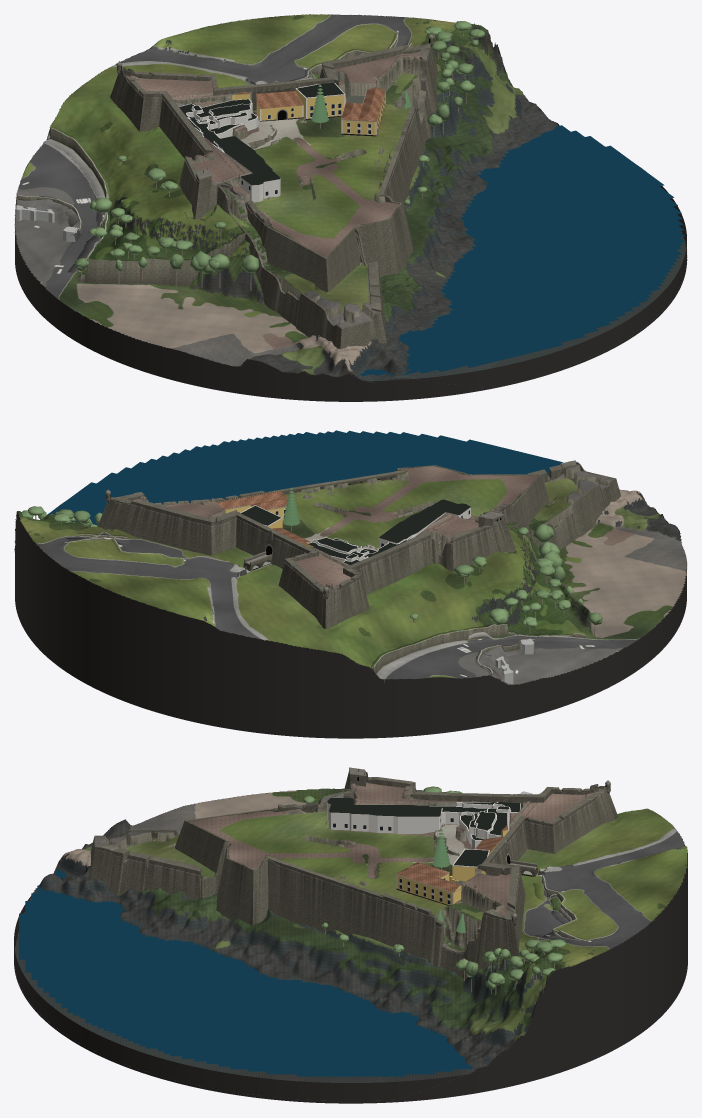
File: sao-sebastiao-angra.glb
3 views of the same model, one above another, from view 1: azimuth 30°, elevation 25°; view 2: azimuth 150°, elevation 25°; view 3: azimuth 270°, elevation 25° (orthographic).
Visible parts, largest first — view 1: Terreno, Terreno_mar, Forte_superficie, Muralha_forte, Terreno_base, Vegetacao_arvores, Muralha_bateria_baixa, Pousada_e_casa_da_guarda, Muro_estaleiro, Muro_estrada_poente, Casa_do_Governador, Casa_da_guarda (+5 smaller); view 2: Terreno, Terreno_base, Terreno_mar, Muralha_forte, Forte_superficie, Vegetacao_arvores, Muro_estrada_poente, Muralha_bateria_baixa, Pousada_e_casa_da_guarda, Lancis, Casa_do_Governador, Muro_parque_poente (+4 smaller); view 3: Terreno, Terreno_mar, Terreno_base, Muralha_forte, Forte_superficie, Pousada_e_casa_da_guarda, Muralha_bateria_baixa, Vegetacao_arvores, Casa_do_Governador, Muro_parque_nordeste, Pousada_ala_norte, Lancis.
Part boxes in pixels (x1,y1,x2,y2): Terreno: (14, 14, 687, 387); Terreno_mar: (360, 125, 685, 376); Forte_superficie: (131, 51, 421, 327); Muralha_forte: (110, 43, 437, 292); Terreno_base: (15, 14, 686, 401); Vegetacao_arvores: (74, 21, 485, 290); Muralha_bateria_baixa: (217, 181, 386, 349); Pousada_e_casa_da_guarda: (179, 92, 280, 202); Muro_estaleiro: (75, 231, 249, 290); Muro_estrada_poente: (43, 126, 110, 272); Casa_do_Governador: (341, 87, 385, 136); Casa_da_guarda: (256, 91, 303, 121); Terreno: (14, 467, 687, 684); Terreno_base: (15, 502, 686, 738); Terreno_mar: (40, 430, 585, 525); Muralha_forte: (97, 465, 549, 629); Forte_superficie: (132, 464, 612, 587); Vegetacao_arvores: (18, 487, 602, 636); Muro_estrada_poente: (371, 623, 588, 682); Muralha_bateria_baixa: (469, 460, 620, 549); Pousada_e_casa_da_guarda: (300, 499, 470, 564); Lancis: (38, 532, 636, 677); Casa_do_Governador: (217, 491, 288, 521); Muro_parque_poente: (475, 639, 534, 680); Terreno: (14, 788, 687, 1100); Terreno_mar: (19, 870, 471, 1076); Terreno_base: (14, 788, 687, 1103); Muralha_forte: (175, 771, 618, 979); Forte_superficie: (96, 782, 592, 950); Pousada_e_casa_da_guarda: (327, 798, 520, 849); Muralha_bateria_baixa: (89, 789, 354, 900); Vegetacao_arvores: (303, 786, 566, 995); Casa_do_Governador: (396, 862, 464, 905); Muro_parque_nordeste: (532, 875, 587, 944); Pousada_ala_norte: (452, 849, 489, 881); Lancis: (523, 832, 680, 948).
Size of the model in its own units: 223 by 50.82 by 223.
22 materials, 7 textured.
